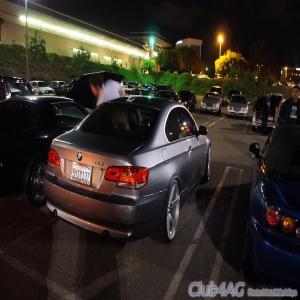Vehicle-registration-plate: (71, 163, 93, 185)
